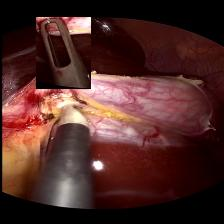Grasper: (35, 17, 90, 89)
Hook: (54, 102, 92, 134)
